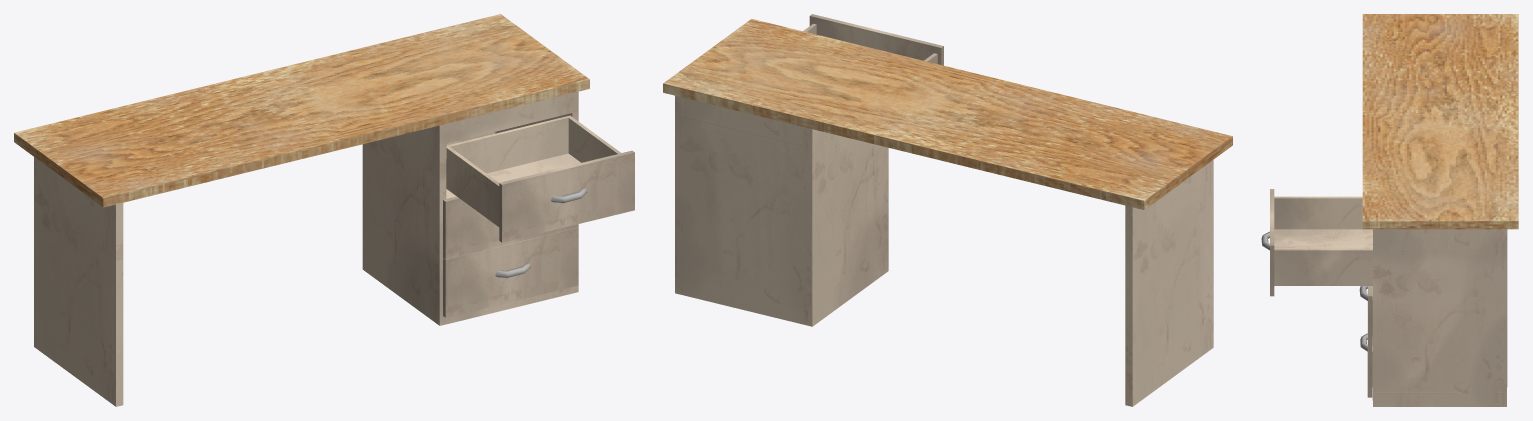
Rendered from Desk1_Drawer1_CLOSED.fbx.
3 views of the same model, side by side, from view 1: azimuth 30°, elevation 25°; view 2: azimuth 150°, elevation 25°; view 3: azimuth 270°, elevation 25° (orthographic). The views are drawn at different scales.
Visible parts, largest first — view 1: Desk, polySurface46, polySurface54, polySurface50; view 2: Desk, polySurface46; view 3: Desk, polySurface46, polySurface54, polySurface50.
Part boxes in pixels (box(x1,y1,x2,y2)): Desk: box(14, 14, 589, 406); polySurface46: box(446, 115, 634, 242); polySurface54: box(443, 227, 578, 317); polySurface50: box(443, 189, 578, 259); Desk: box(663, 18, 1232, 406); polySurface46: box(803, 14, 943, 65); Desk: box(1362, 14, 1518, 406); polySurface46: box(1261, 189, 1372, 296); polySurface54: box(1360, 290, 1372, 397); polySurface50: box(1359, 286, 1372, 346).
Bounding box in the file's own units: 8.44 × 3.57 × 4.43.
1 material, 1 textured.
